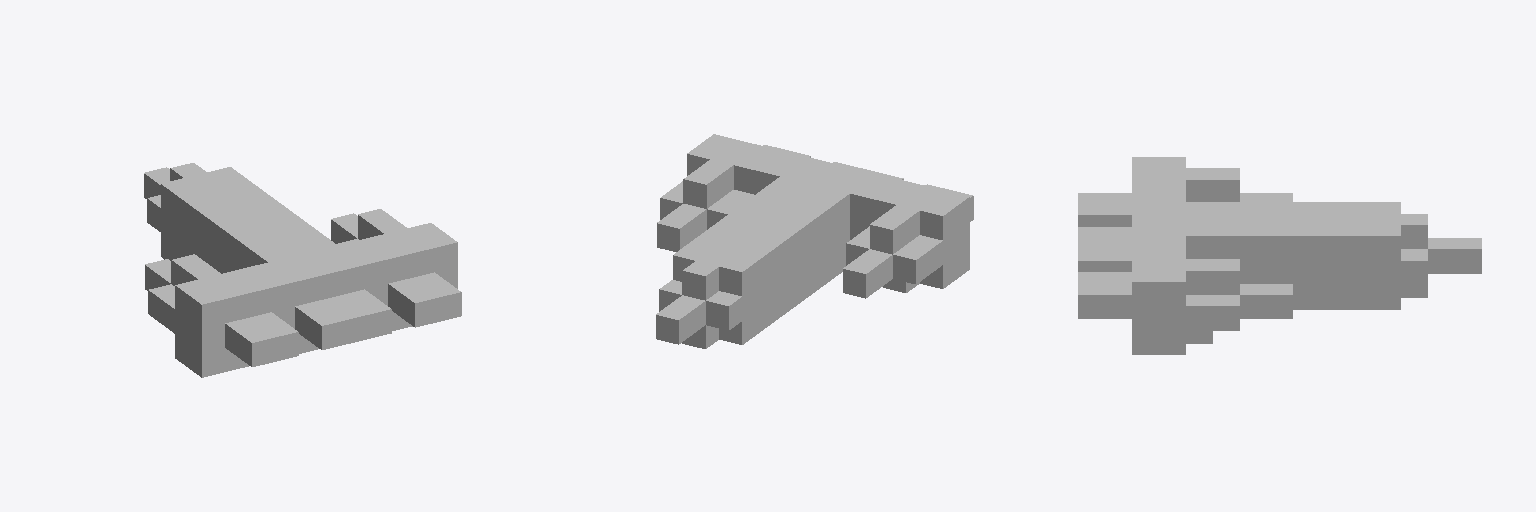
File: SpaceShipObject.obj
The picture shows the model from 3 angles: view 1: azimuth 30°, elevation 25°; view 2: azimuth 150°, elevation 25°; view 3: azimuth 270°, elevation 25°; orthographic projection.
Parts seen in each view (by area): view 1: object 1; view 2: object 1; view 3: object 1.
Boxes of the visible parts, box(x1,y1,x2,y2) form: object 1: box(144, 163, 461, 377); object 1: box(656, 134, 973, 348); object 1: box(1078, 157, 1481, 354).
Bounding box in the file's own units: 1.1 × 0.3 × 1.5.